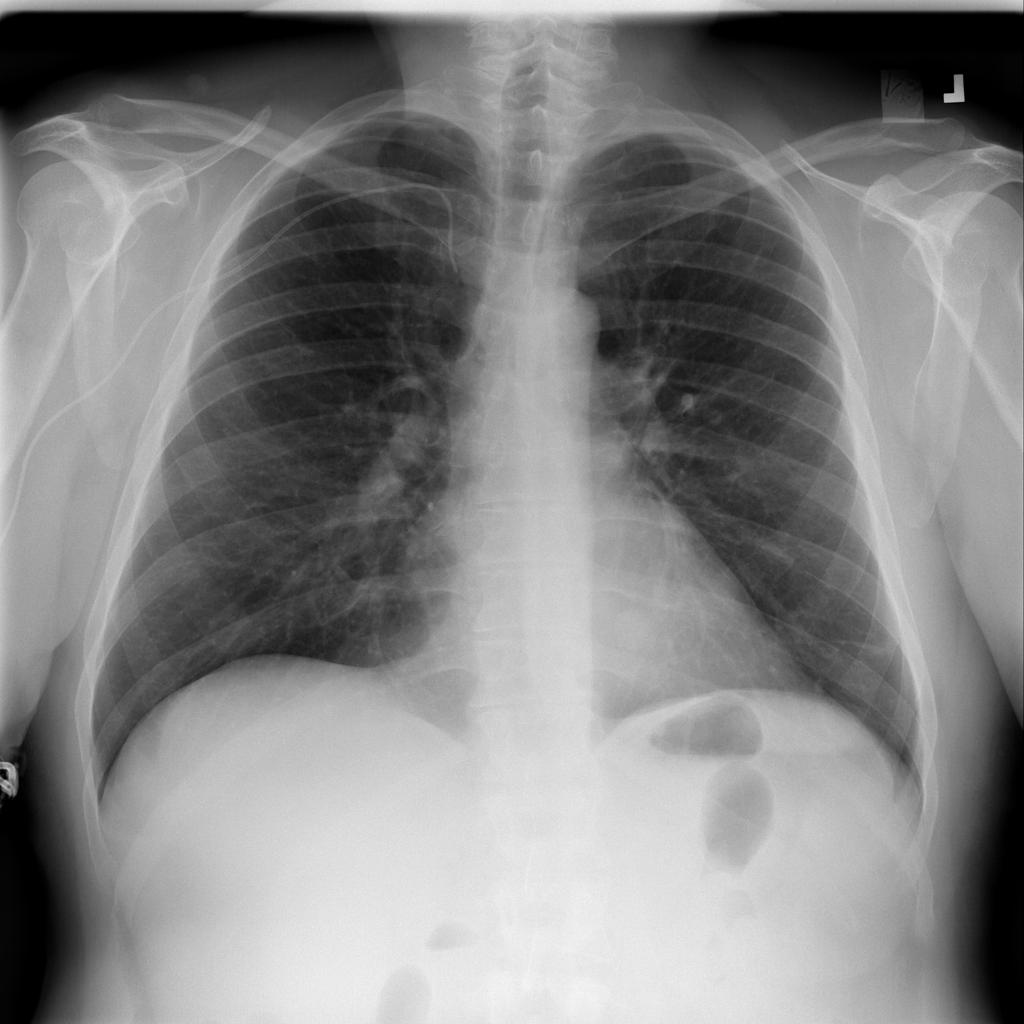nodule: (598, 593, 673, 671)
